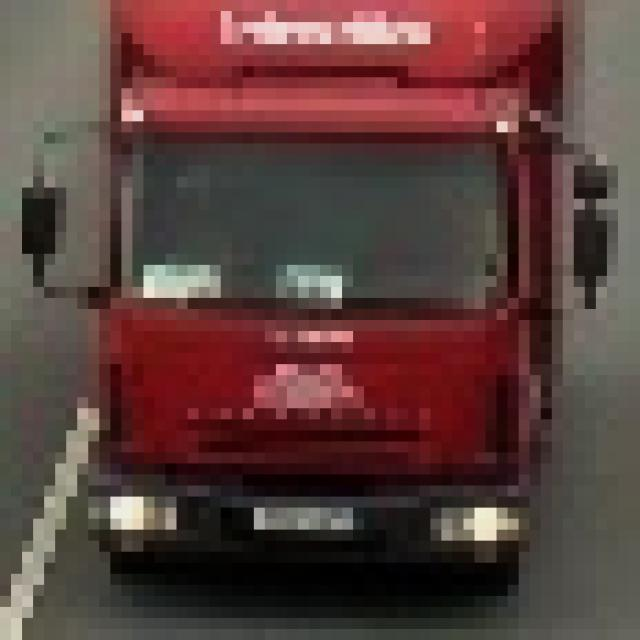truck: (1, 1, 597, 586)
